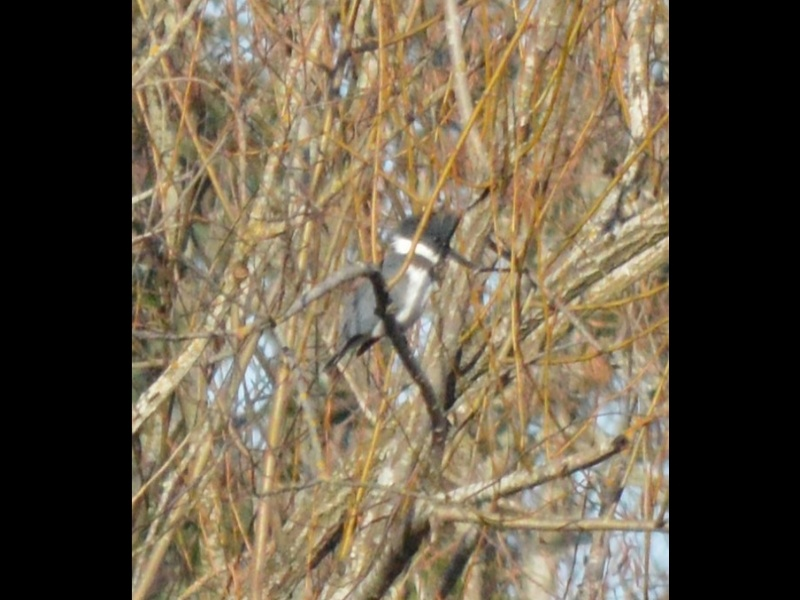kingfisher: (340, 206, 466, 362)
